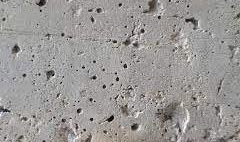Spalling: (1, 1, 240, 142)
